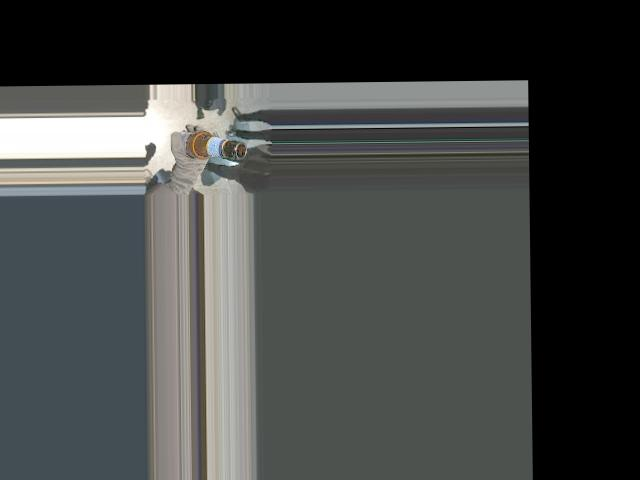beer: (174, 128, 247, 160)
